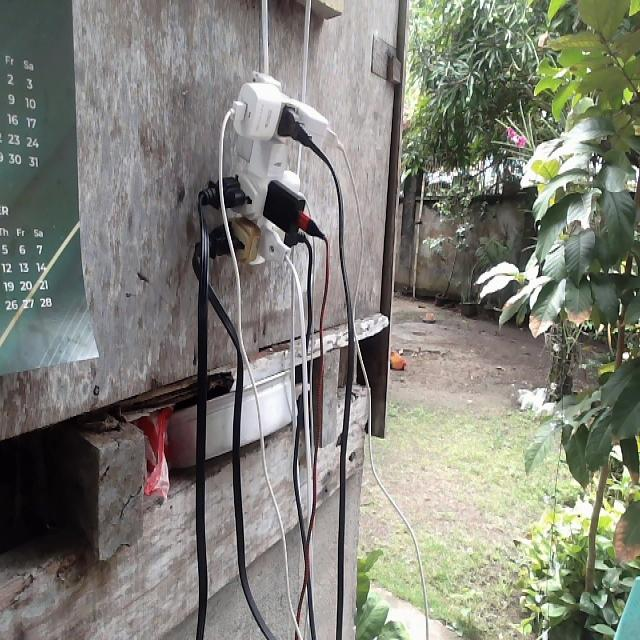-: (206, 70, 327, 266)
